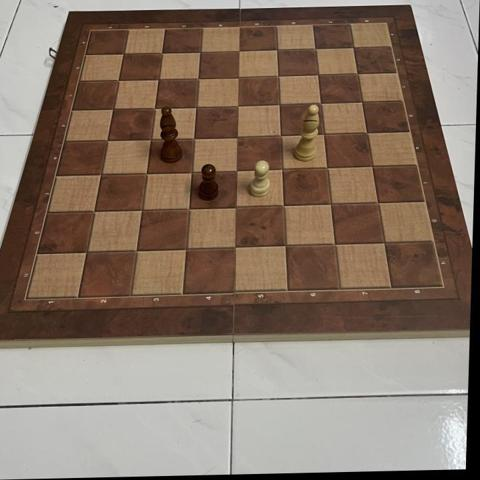xcorner: (306, 39, 324, 57), (189, 69, 207, 87), (149, 70, 167, 88), (104, 100, 122, 118), (98, 131, 116, 149), (374, 234, 392, 252), (225, 238, 243, 256), (268, 40, 285, 58), (191, 43, 209, 60), (115, 45, 132, 63), (349, 64, 366, 82), (311, 94, 329, 111), (270, 95, 287, 113), (228, 97, 246, 114), (314, 125, 332, 142), (271, 126, 288, 144), (141, 130, 159, 147), (363, 157, 380, 175), (317, 159, 335, 176), (272, 160, 290, 177), (227, 161, 244, 179), (368, 194, 386, 211), (321, 195, 338, 213), (226, 198, 244, 215), (179, 199, 196, 217), (127, 241, 144, 259), (77, 243, 95, 260), (345, 38, 362, 55), (230, 42, 247, 59), (153, 44, 170, 61), (309, 66, 326, 83), (269, 67, 286, 84), (229, 68, 246, 85), (110, 72, 127, 89), (353, 93, 370, 110), (187, 98, 204, 115), (146, 99, 163, 116), (358, 124, 375, 141), (228, 128, 245, 145), (185, 129, 202, 146), (182, 163, 199, 180), (137, 164, 154, 181), (92, 165, 109, 182), (274, 197, 291, 214), (132, 201, 149, 218), (85, 202, 102, 219), (325, 236, 342, 253), (275, 237, 292, 254), (176, 240, 193, 257)
